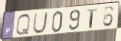0: (50, 10, 64, 34)
6: (102, 5, 115, 28)
9: (68, 9, 81, 31)
Q: (15, 13, 32, 38)
T: (86, 8, 98, 30)
U: (31, 11, 49, 35)
